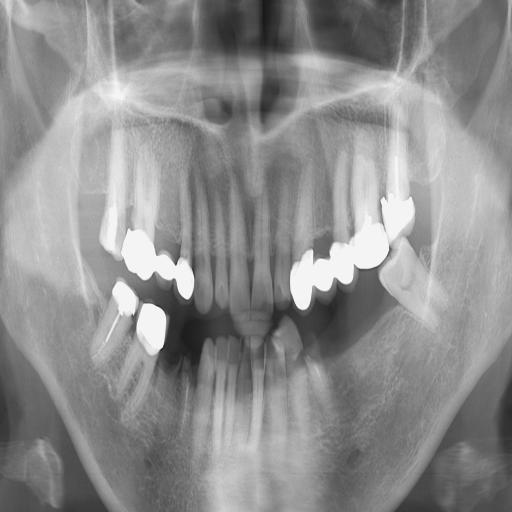Wisdom teeth: (379, 237, 443, 329)
